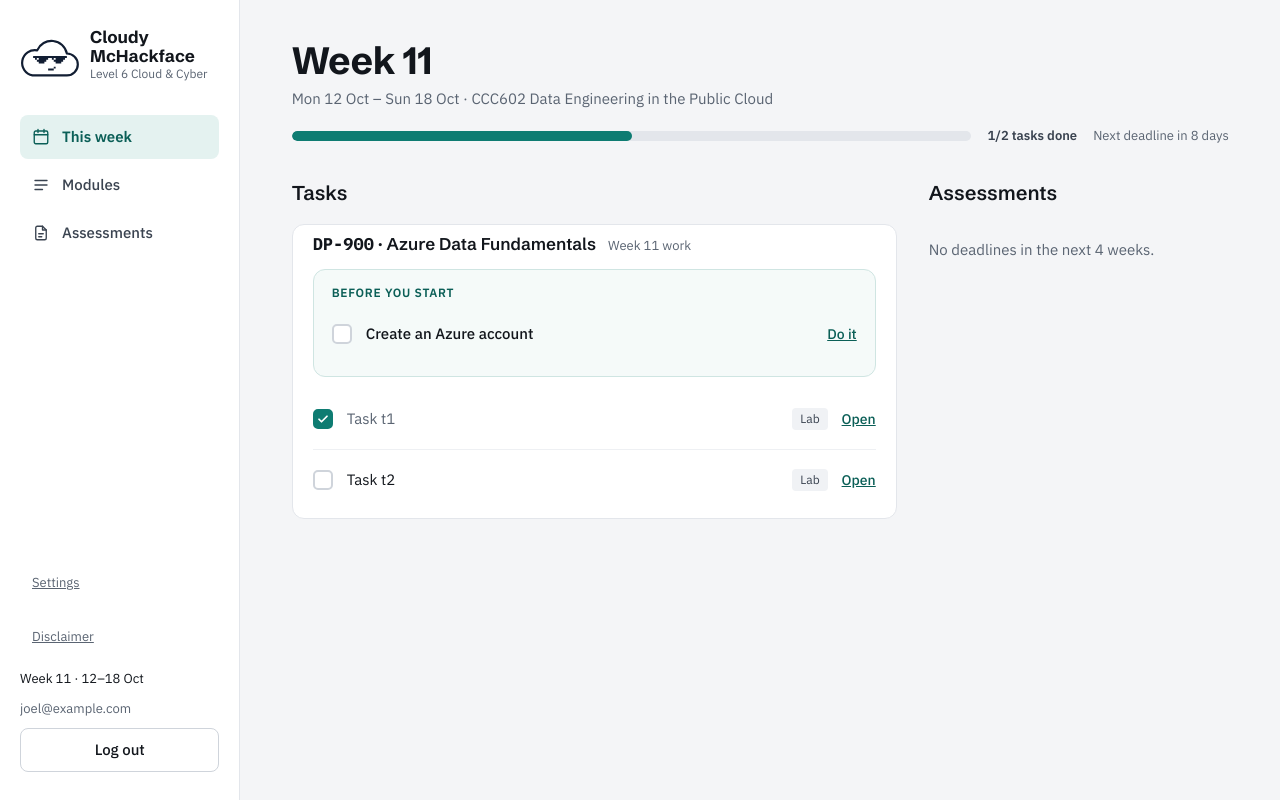
Scenario: ThisWeekPage › ticks a task straight away and saves it
Click the checkbox labelled "Task t2".
click(323, 480)  # box [313,470,333,490]
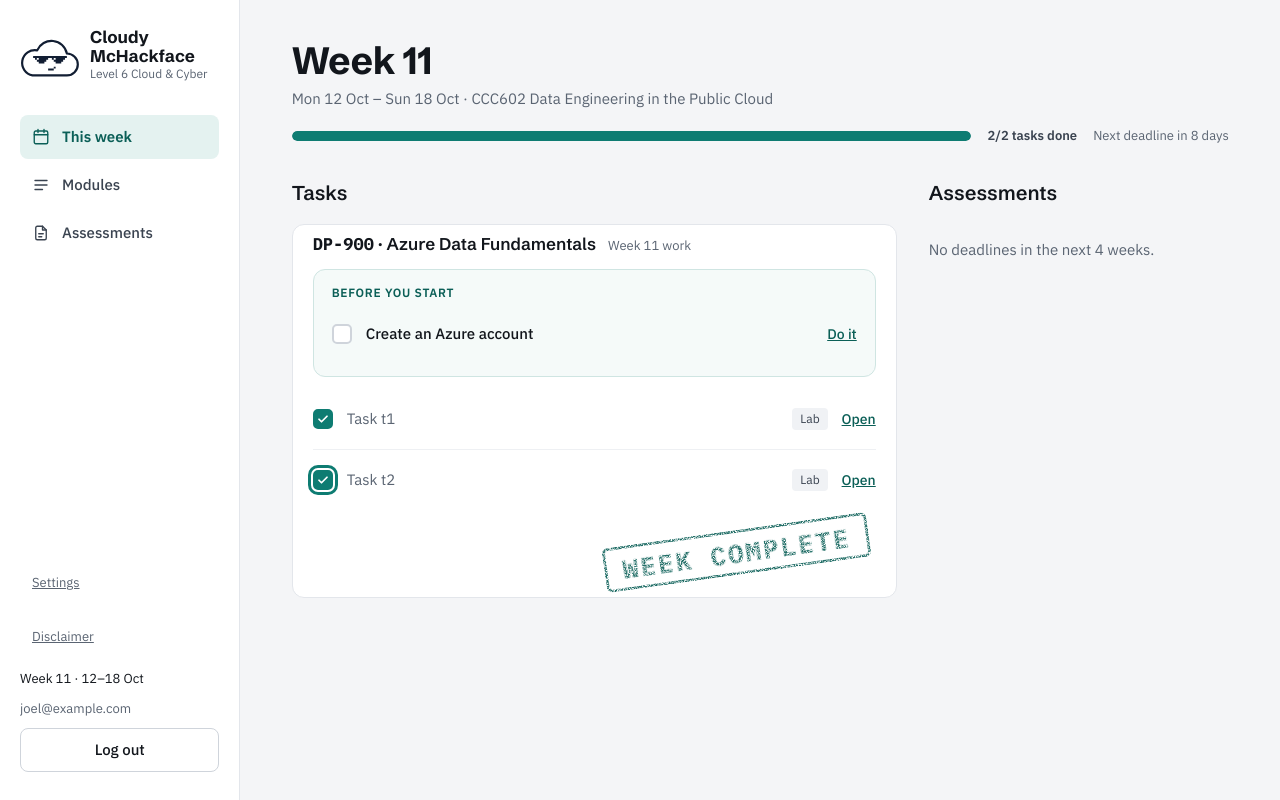
Now the checkbox labelled "Task t2" is checked, box [313,470,333,490]
Now the text "2/2 tasks done" is shown, box [987,126,1077,146]
